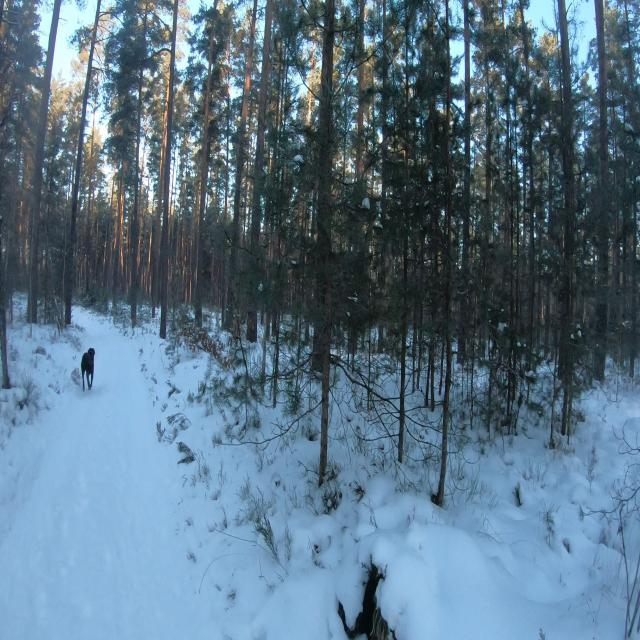trees: (65, 0, 100, 324), (27, 0, 61, 323), (225, 0, 257, 329), (434, 0, 454, 506), (315, 0, 335, 485), (247, 0, 273, 342), (559, 0, 575, 435), (195, 0, 216, 327), (129, 0, 148, 328), (160, 0, 178, 338), (594, 0, 609, 380), (519, 0, 535, 344), (502, 0, 518, 334), (457, 0, 471, 362), (83, 84, 98, 291), (398, 234, 408, 463), (0, 216, 10, 389), (112, 164, 124, 294), (381, 0, 388, 221), (624, 0, 637, 119), (484, 44, 492, 223), (356, 59, 365, 181), (417, 293, 423, 390), (358, 0, 365, 55), (482, 0, 488, 36), (96, 0, 101, 29), (421, 238, 424, 260)
